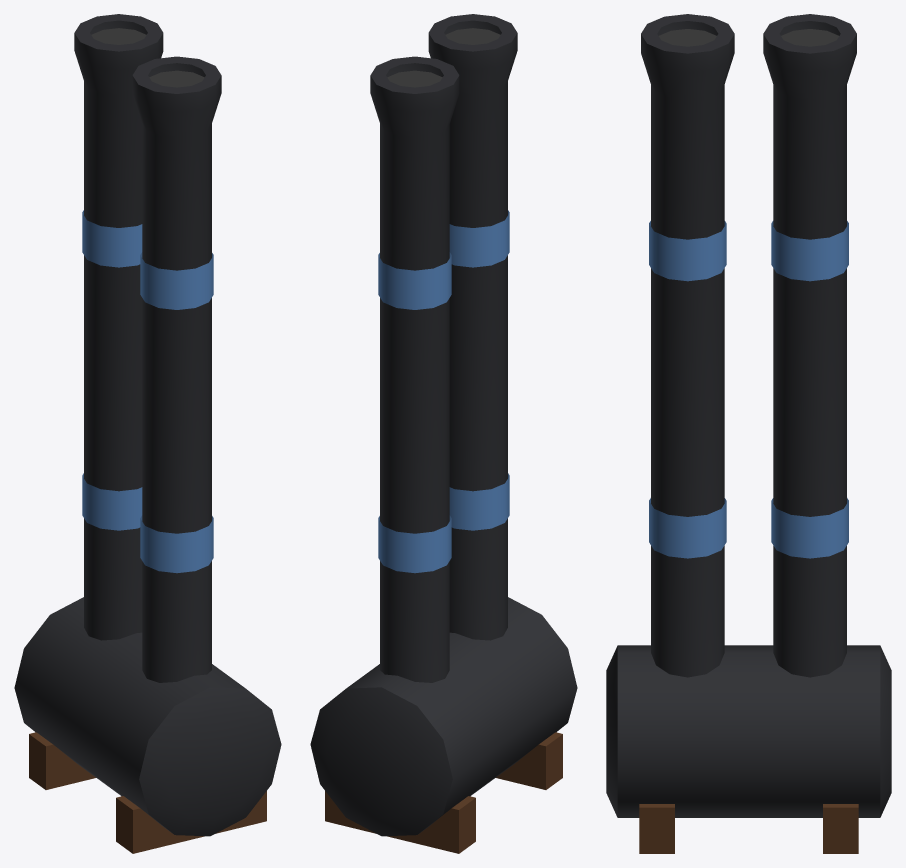
The model's file is amelioration--propulsion-a-vapeur.glb.
3 renders of one model, left to right at view 1: azimuth 30°, elevation 25°; view 2: azimuth 150°, elevation 25°; view 3: azimuth 270°, elevation 25°, orthographic. The views are drawn at different scales.
Parts seen in each view (by area): view 1: vapeur; view 2: vapeur; view 3: vapeur.
Boxes of the visible parts, x1,y1,x2,y2 form: vapeur: (14, 14, 281, 853); vapeur: (310, 14, 577, 853); vapeur: (606, 14, 891, 853).
Bounding box in the file's own units: 1.7 × 8.5 × 2.8.
